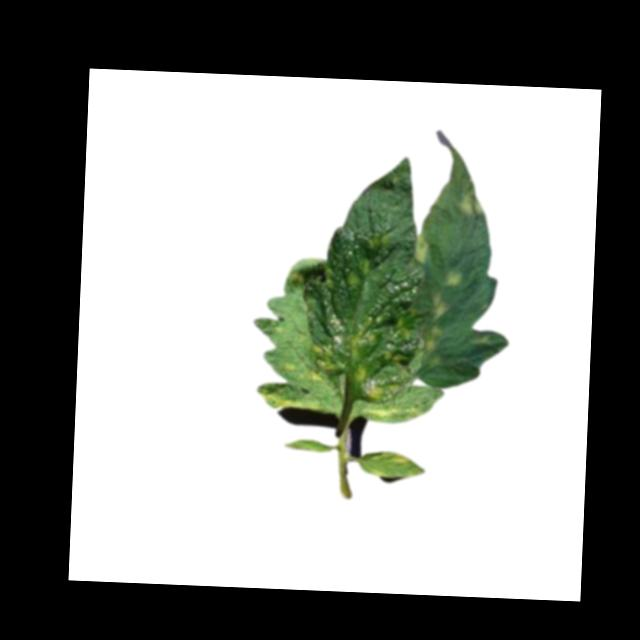Leaf_Mold: (313, 317, 377, 375), (262, 383, 319, 415), (423, 295, 452, 357), (360, 366, 394, 399), (459, 183, 488, 218), (411, 230, 437, 265), (447, 270, 465, 286)
